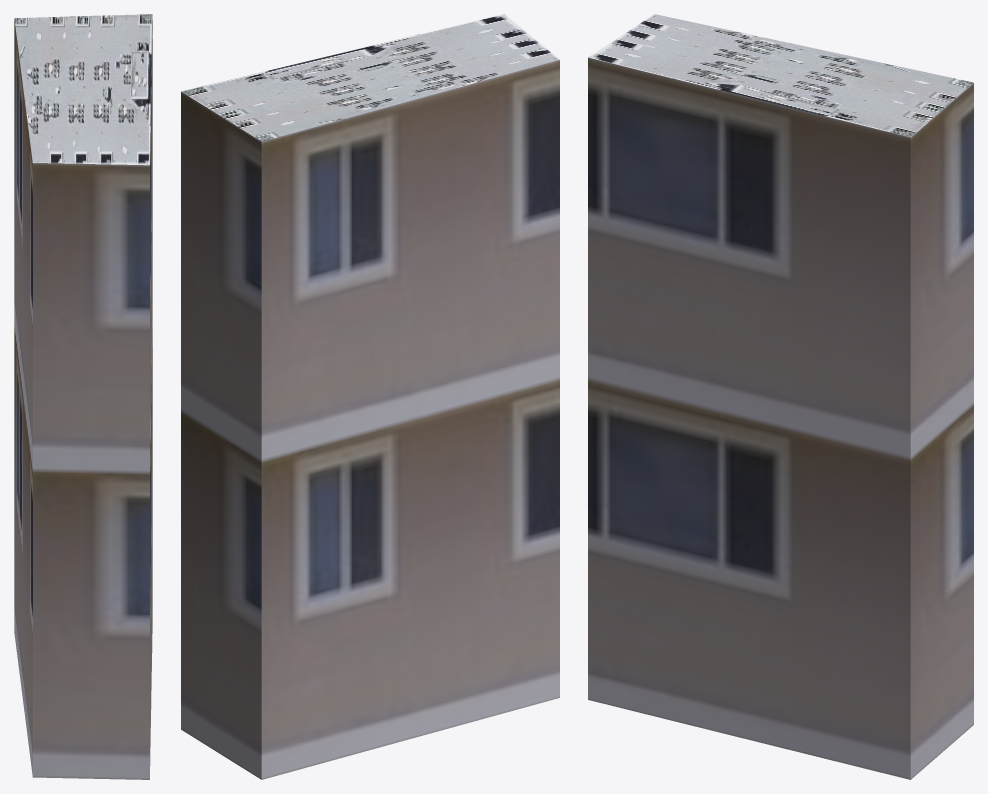
The model's file is ResTex__3487.fbx.
3 renders of one model, left to right at view 1: azimuth 30°, elevation 25°; view 2: azimuth 150°, elevation 25°; view 3: azimuth 270°, elevation 25°, orthographic. The views are drawn at different scales.
Parts seen in each view (by area): view 1: CityEngineMaterial_21_m, CityEngineMaterial_m; view 2: CityEngineMaterial_21_m, CityEngineMaterial_m; view 3: CityEngineMaterial_21_m, CityEngineMaterial_m.
Boxes of the visible parts, x1,y1,x2,y2 form: CityEngineMaterial_21_m: (14,19,152,779); CityEngineMaterial_m: (14,14,152,165); CityEngineMaterial_21_m: (181,60,559,779); CityEngineMaterial_m: (181,14,559,141); CityEngineMaterial_21_m: (588,57,973,779); CityEngineMaterial_m: (588,14,973,137).
Size of the model in its own units: 2.48 by 6 by 3.27.
Materials: 2 (2 with a texture image).
